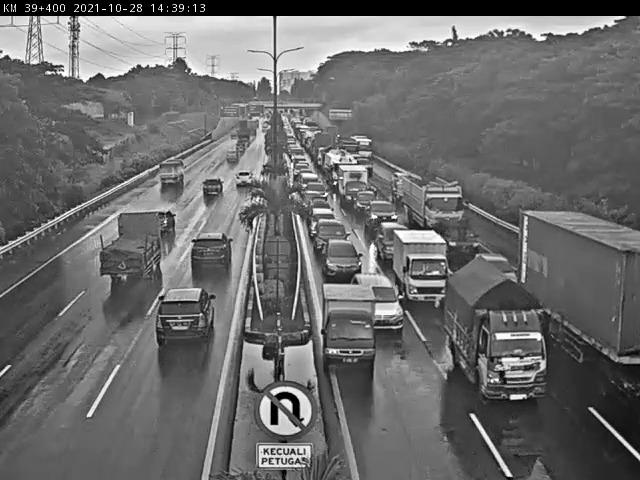big truck: (513, 201, 640, 410), (400, 171, 466, 231)
car: (149, 281, 223, 355), (350, 263, 409, 333), (182, 231, 240, 283), (317, 238, 364, 284), (438, 215, 481, 265), (308, 218, 350, 258), (477, 245, 515, 285), (375, 221, 412, 258), (367, 199, 402, 234), (194, 174, 231, 204), (349, 187, 385, 214), (231, 167, 257, 187)
mid truck: (439, 246, 562, 406), (101, 203, 180, 292), (388, 225, 445, 305), (155, 155, 188, 188)
small truck: (311, 273, 385, 376)
